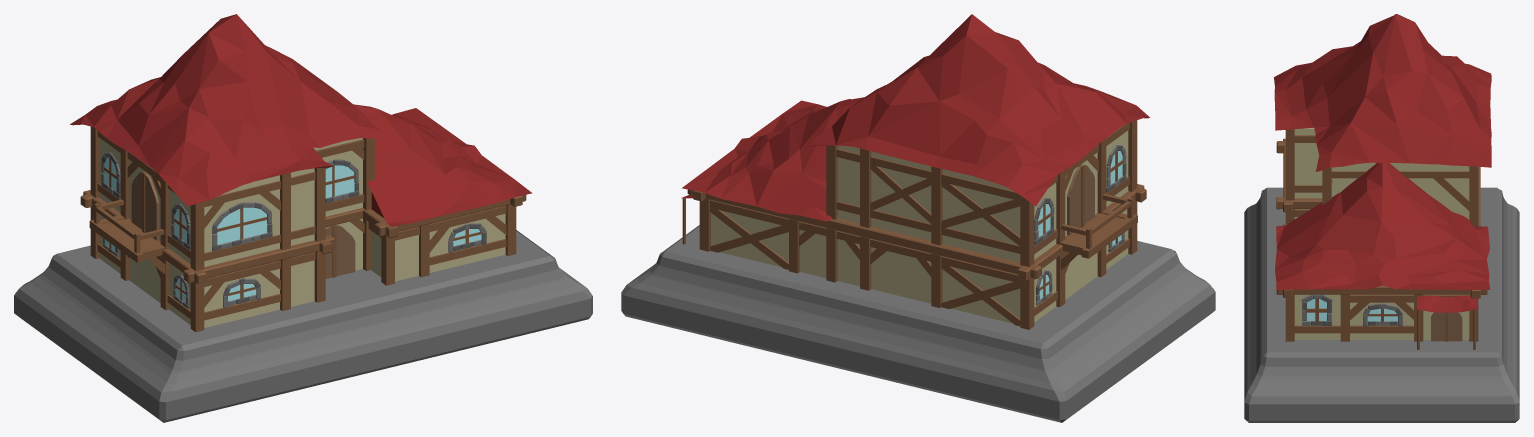
File: test_house2.fbx
3 views of the same model, side by side, from view 1: azimuth 30°, elevation 25°; view 2: azimuth 150°, elevation 25°; view 3: azimuth 270°, elevation 25° (orthographic). The views are drawn at different scales.
Visible parts, largest first — view 1: Cube; view 2: Cube; view 3: Cube.
Part boxes in pixels (left/top/right/bottom): Cube: left=14, top=14, right=592, bottom=422; Cube: left=621, top=14, right=1215, bottom=422; Cube: left=1244, top=14, right=1519, bottom=422.
Bounding box in the file's own units: 2500 × 1726 × 1500.
